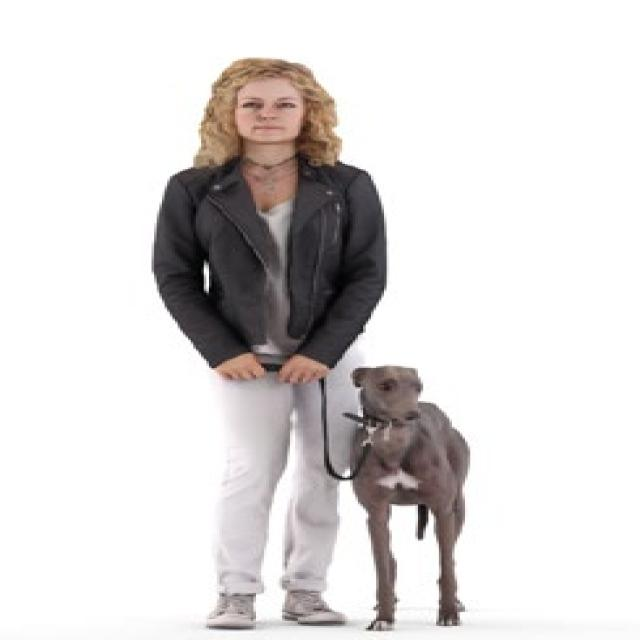standing: (144, 55, 389, 635)
